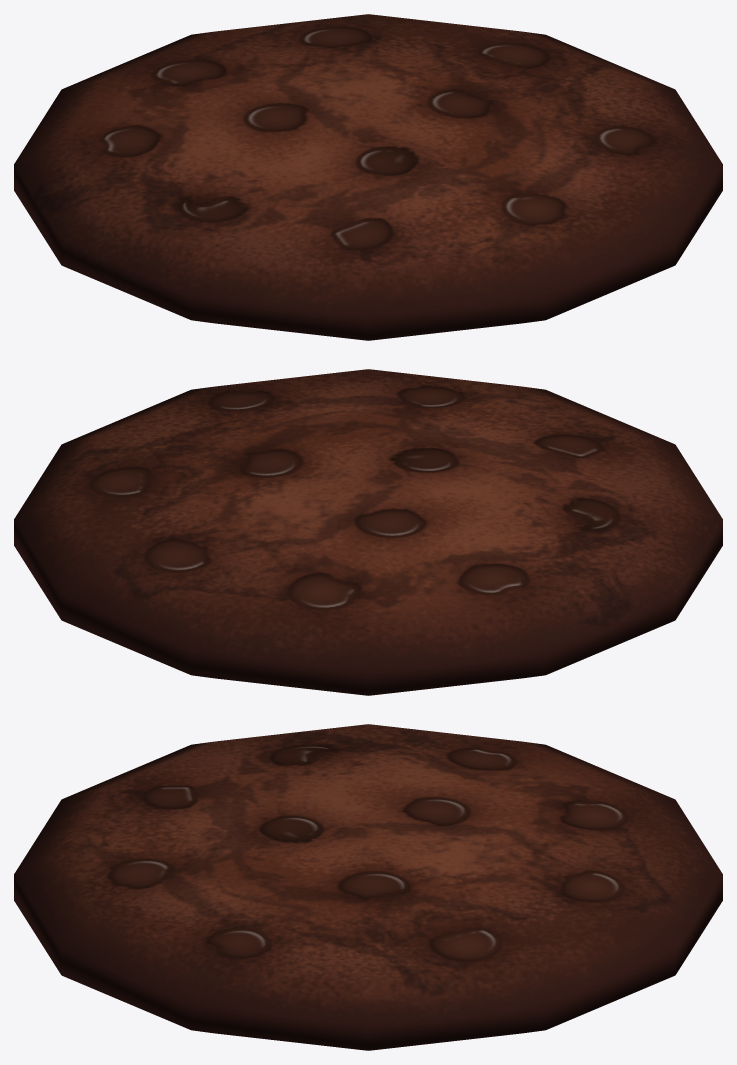
Rendered from Cookie_02.fbx.
3 views of the same model, one above another, from view 1: azimuth 30°, elevation 25°; view 2: azimuth 150°, elevation 25°; view 3: azimuth 270°, elevation 25° (orthographic).
Visible parts, largest first — view 1: Cookie_02; view 2: Cookie_02; view 3: Cookie_02.
Boxes of the visible parts, bbox=[...] form: Cookie_02: bbox=[14, 14, 722, 340]; Cookie_02: bbox=[14, 369, 722, 695]; Cookie_02: bbox=[14, 724, 722, 1050].
Bounding box in the file's own units: 63.45 × 8.8 × 63.45.
